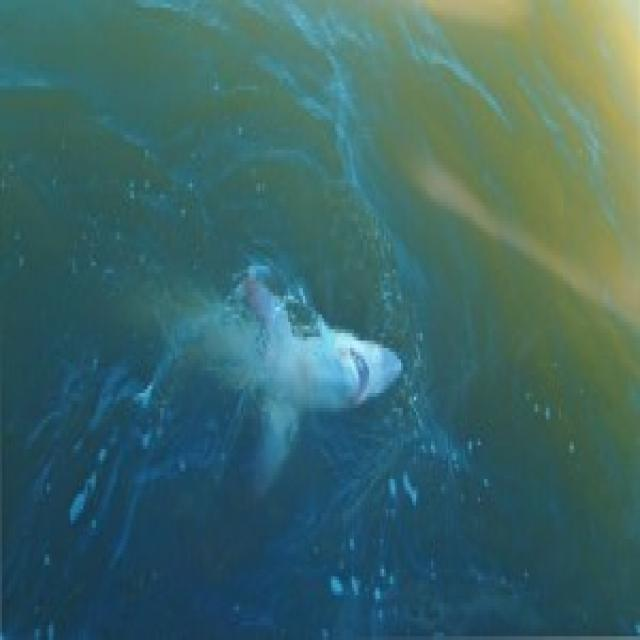Shark: (153, 246, 403, 474)
